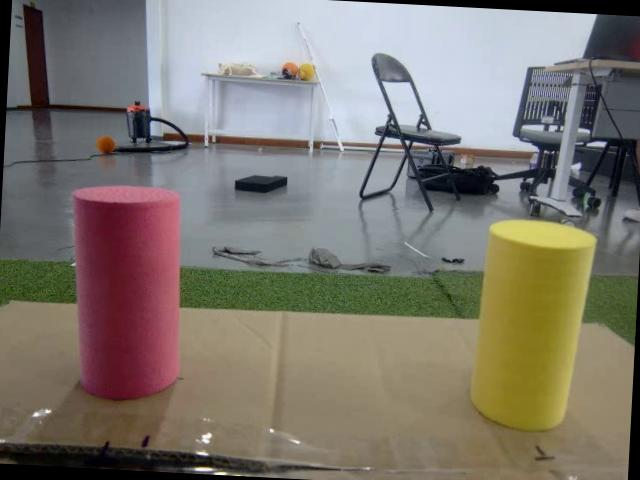red_cylinder: (61, 181, 193, 405)
yellow_cylinder: (467, 216, 604, 438)
